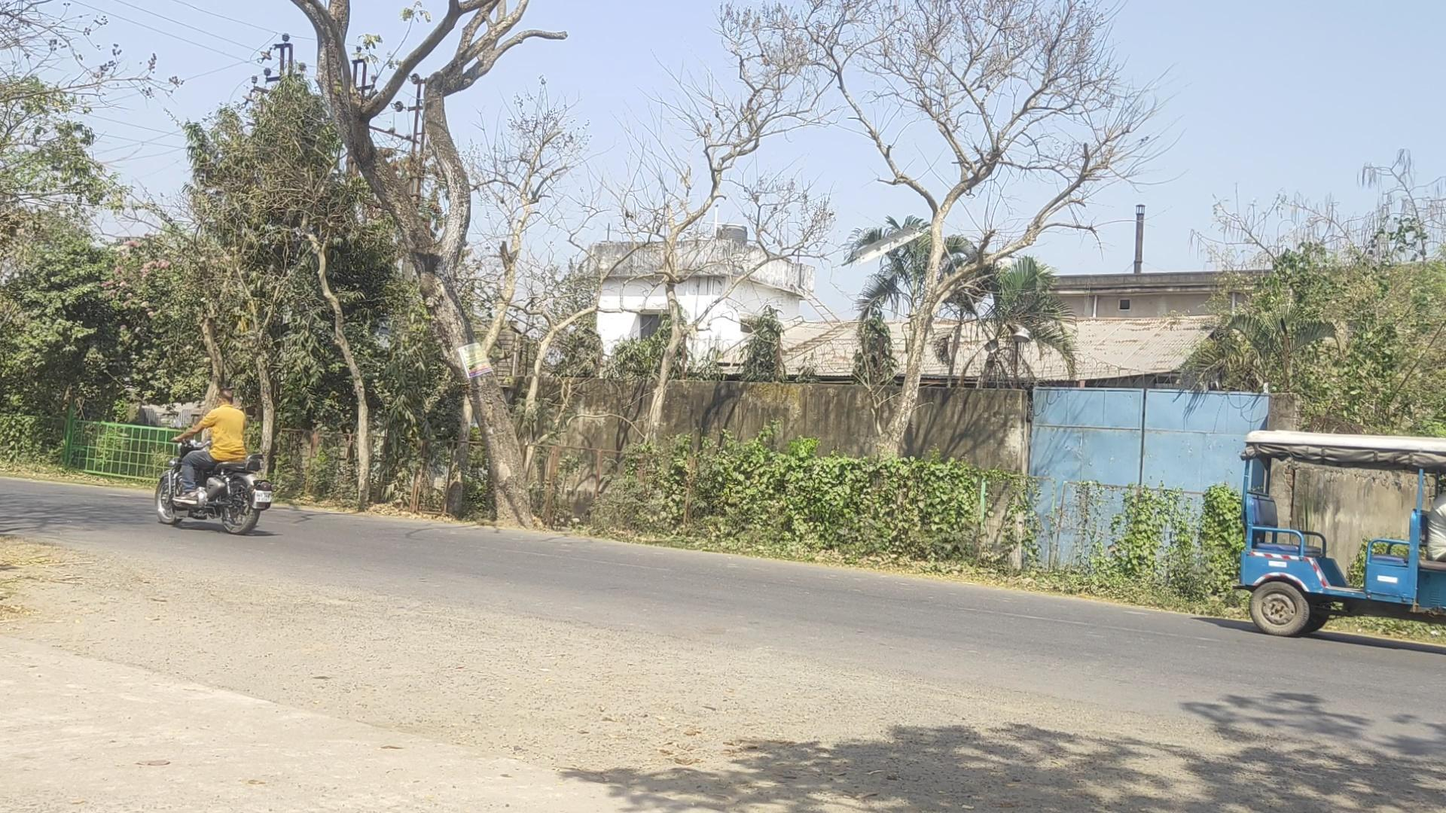Auto: (1232, 429, 1446, 639)
bike: (154, 388, 276, 534)
